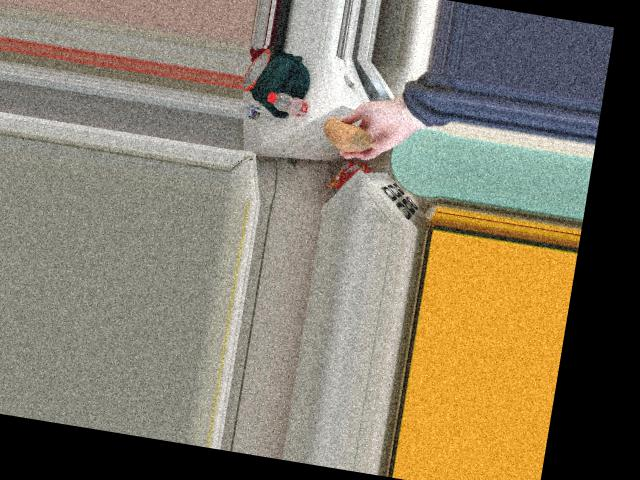sweet_potato: (319, 120, 379, 154)
